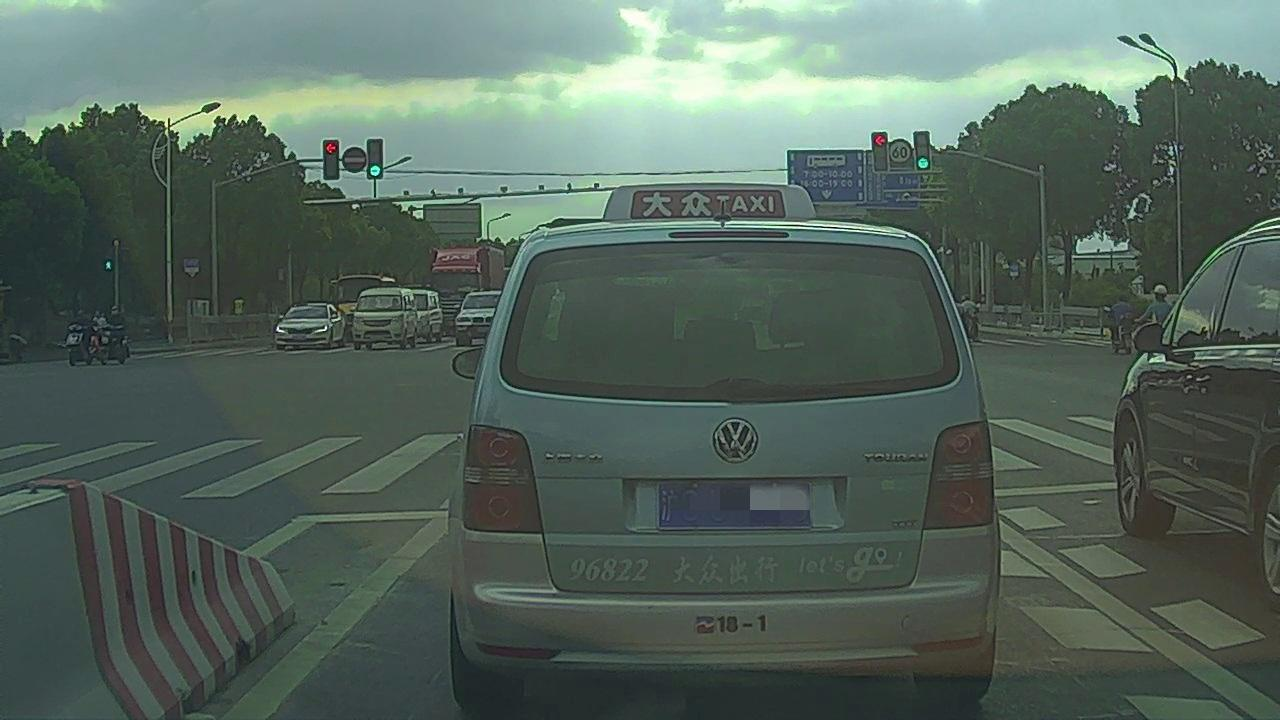traffic_light: (323, 140, 340, 181), (366, 139, 383, 179), (871, 132, 888, 171), (914, 132, 930, 170)
